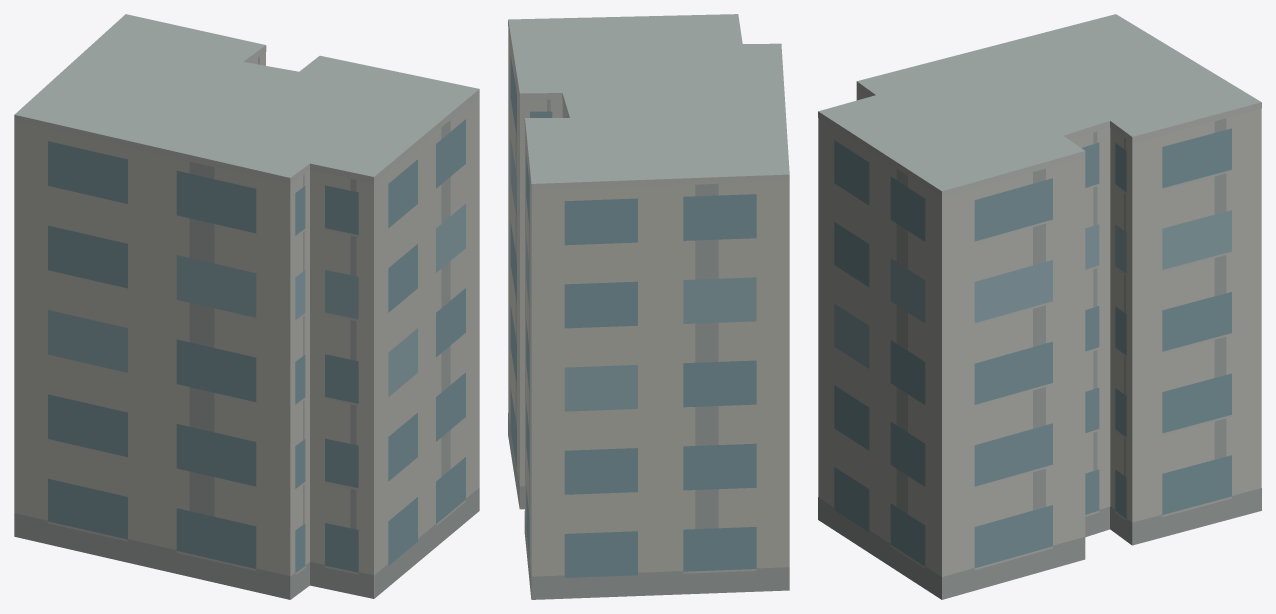
The model's file is survey-upis-32576806.glb.
3 renders of one model, left to right at view 1: azimuth 30°, elevation 25°; view 2: azimuth 150°, elevation 25°; view 3: azimuth 270°, elevation 25°, orthographic. The views are drawn at different scales.
Visible parts, largest first — view 1: survey-upis-32576806.tmp; view 2: survey-upis-32576806.tmp; view 3: survey-upis-32576806.tmp.
Part boxes in pixels (x1,y1,x2,y2): survey-upis-32576806.tmp: (14,14,479,599); survey-upis-32576806.tmp: (508,14,789,599); survey-upis-32576806.tmp: (818,14,1261,599).
Bounding box in the file's own units: 14.21 × 15.25 × 15.02.
